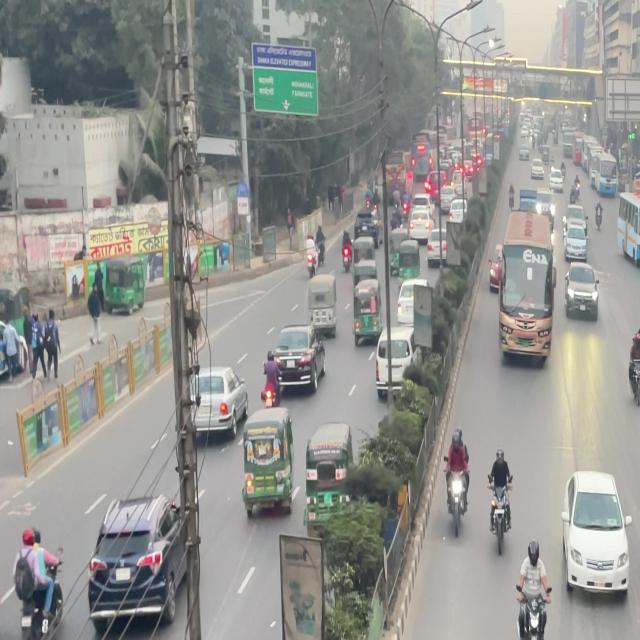bicycle: (518, 592, 549, 640)
bus: (494, 241, 556, 371), (615, 197, 640, 272)
car: (86, 496, 190, 640), (559, 470, 632, 592), (191, 366, 253, 440), (262, 324, 322, 394), (566, 262, 602, 320), (564, 217, 590, 265)
motorbike: (434, 419, 488, 543), (507, 537, 558, 640), (14, 532, 62, 640), (477, 429, 518, 546)
rickshaw: (241, 401, 302, 521), (306, 419, 358, 488), (310, 274, 345, 348), (351, 276, 380, 348)
